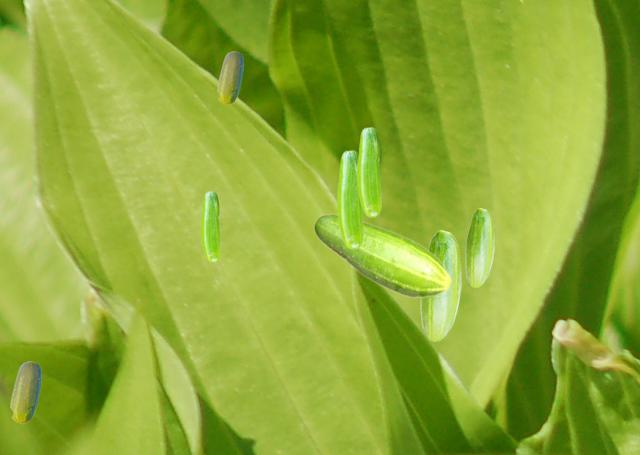cucumber: (313, 213, 451, 298), (420, 230, 460, 341), (337, 150, 362, 248), (465, 208, 493, 287), (357, 127, 380, 216), (10, 361, 40, 422), (217, 51, 242, 103), (201, 191, 219, 261)
